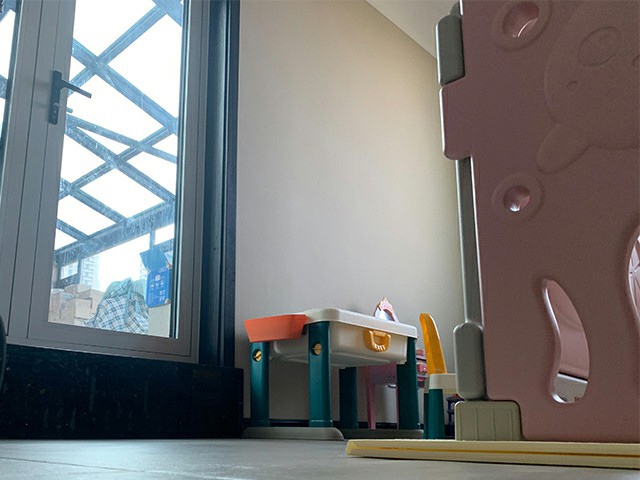stool: (418, 311, 460, 440)
table: (242, 306, 427, 442)
